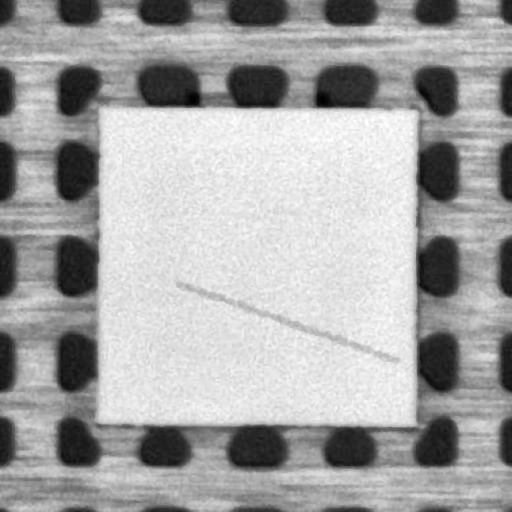DIE_CRACK: (176, 283, 396, 360)
